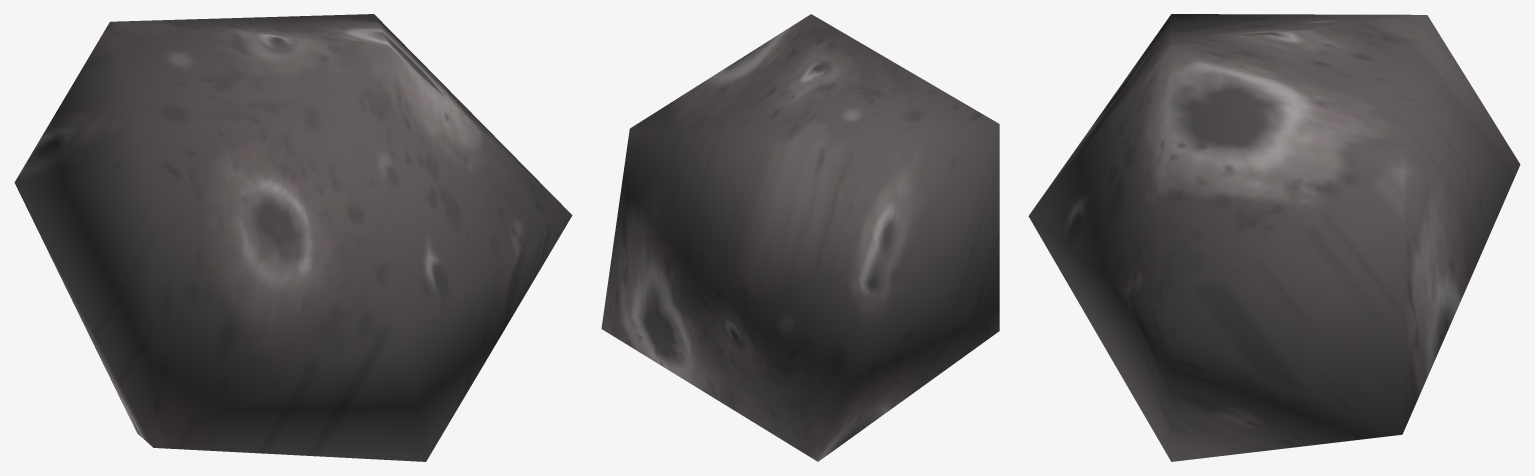
File: asteroid_01.fbx
3 renders of one model, left to right at view 1: azimuth 30°, elevation 25°; view 2: azimuth 150°, elevation 25°; view 3: azimuth 270°, elevation 25°, orthographic. The views are drawn at different scales.
Visible parts, largest first — view 1: asteroid_01; view 2: asteroid_01; view 3: asteroid_01.
Part boxes in pixels (x1,y1,x2,y2): asteroid_01: [14, 14, 572, 461]; asteroid_01: [601, 14, 999, 461]; asteroid_01: [1028, 14, 1520, 461].
Size of the model in its own units: 1948 by 1947 by 2079.
